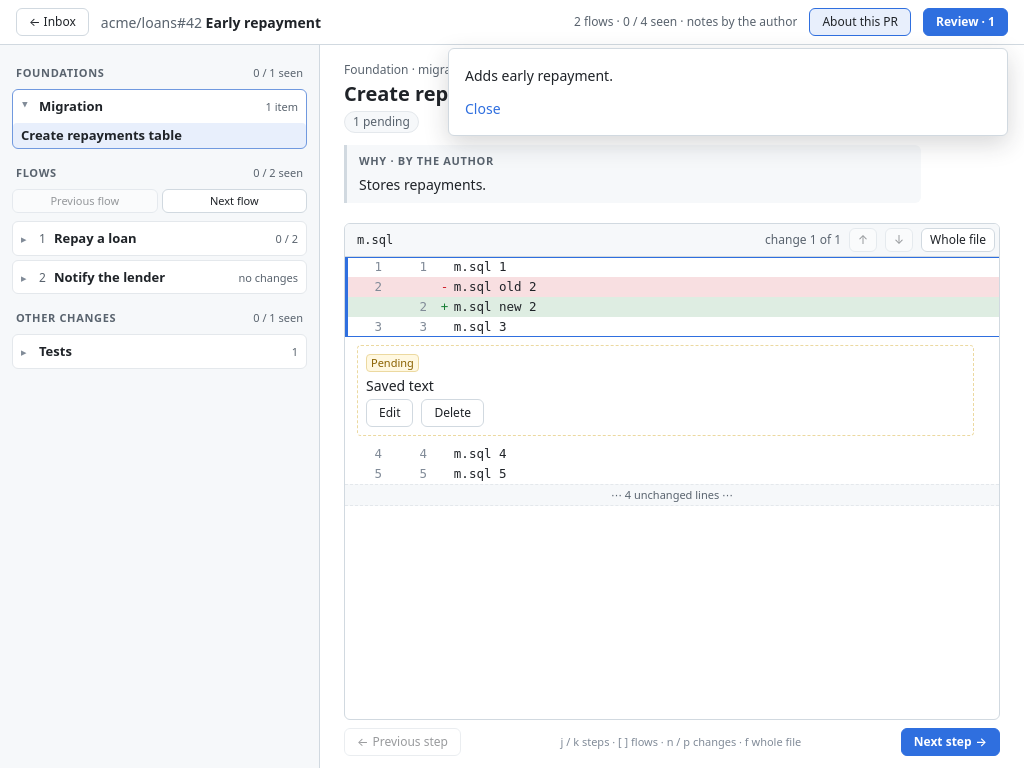
it: typed text across moves › an edit of a draft keeps its text after j and k
The image size is (1024, 768).
Expected: the text "m.sql new 2" is shown, [454, 298, 537, 314]
Expected: the text "Saved text" is shown, [366, 376, 434, 394]
Click the button "Edit" at (390, 412), box [366, 398, 414, 426]
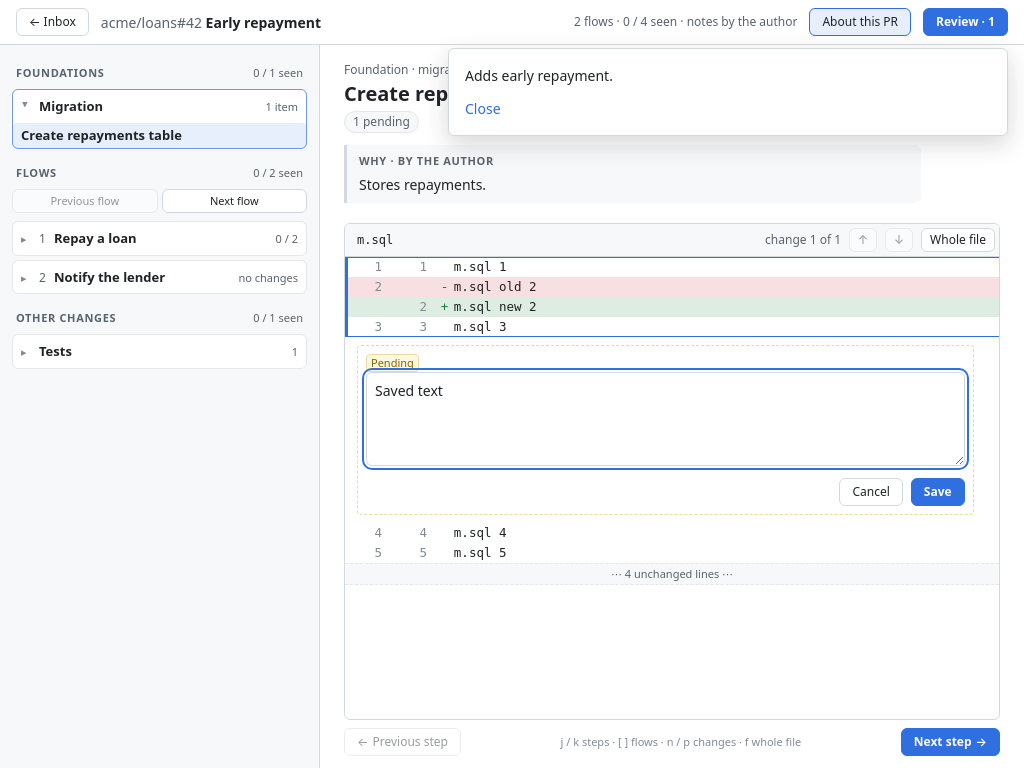
Replace the text in the text box named "Comment on m.sql" with "Saved text, edited" at (665, 418), box [366, 372, 965, 466]
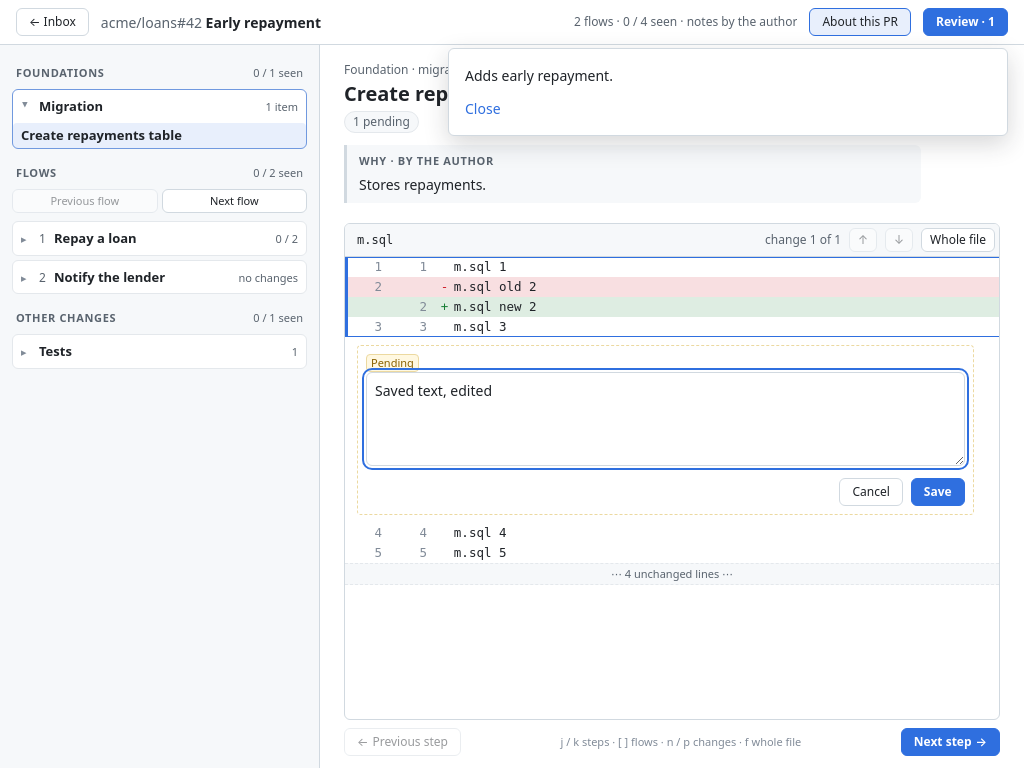
Press j
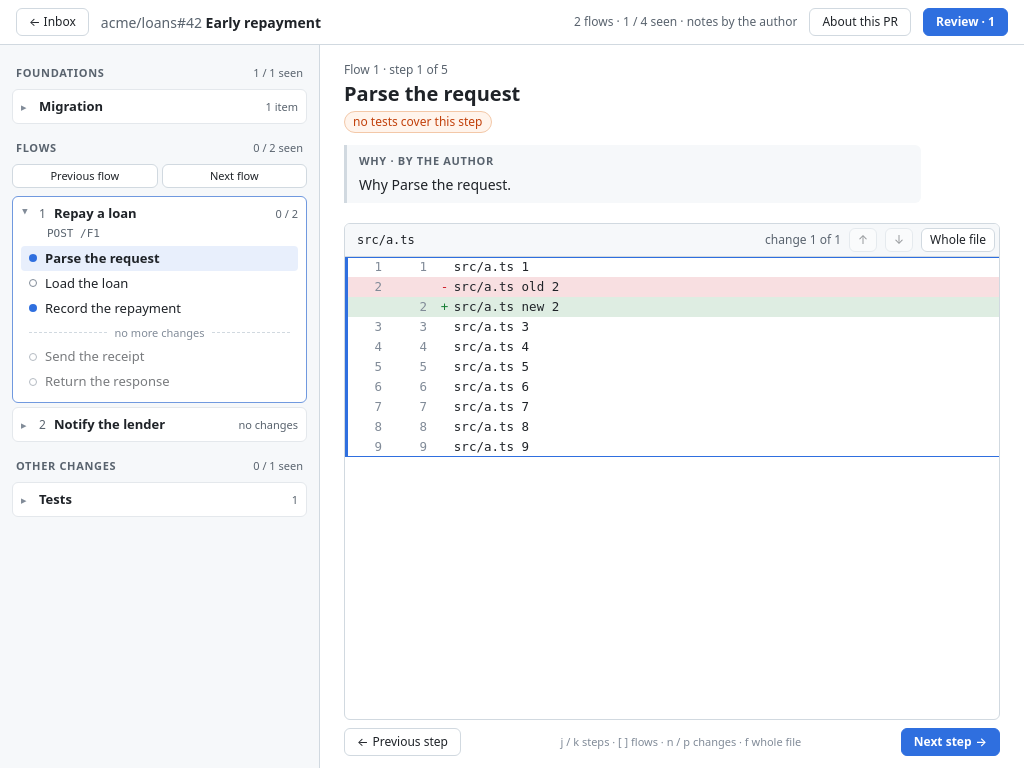
Now the text "src/a.ts new 2" is shown, box [454, 298, 559, 314]
Now the text "m.sql new 2" is gone
Press k
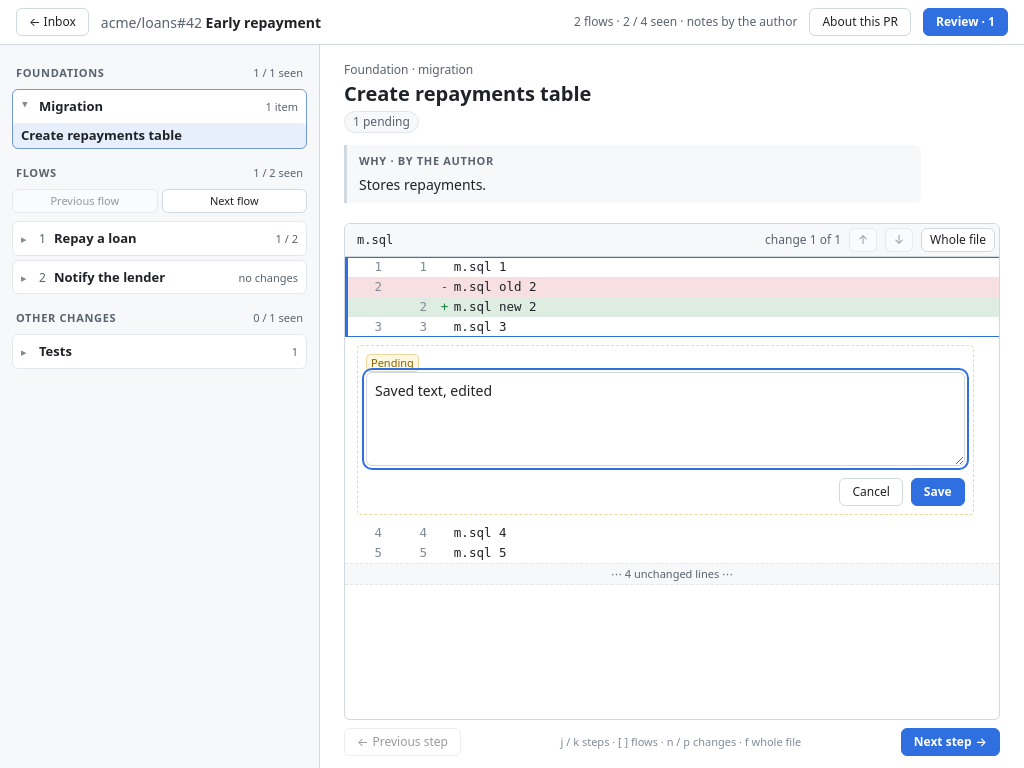
Now the text "m.sql new 2" is shown, box [454, 298, 537, 314]
Now the text box holds "Saved text, edited", box [366, 372, 965, 466]
